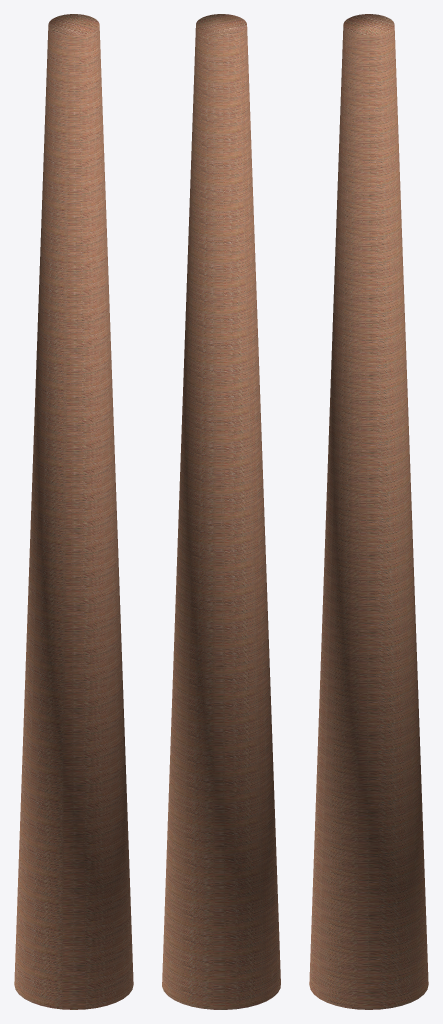
File: Schornstein.obj
3 renders of one model, left to right at view 1: azimuth 90°, elevation 25°; view 2: azimuth 150°, elevation 25°; view 3: azimuth 270°, elevation 25°, orthographic.
Parts seen in each view (by area): view 1: Schornstein; view 2: Schornstein; view 3: Schornstein.
Part boxes in pixels (x1,y1,x2,y2): Schornstein: [14, 14, 133, 1009]; Schornstein: [162, 14, 280, 1009]; Schornstein: [309, 14, 428, 1009].
Bounding box in the file's own units: 8.53 × 75.78 × 8.53.
Materials: 1 (1 with a texture image).
